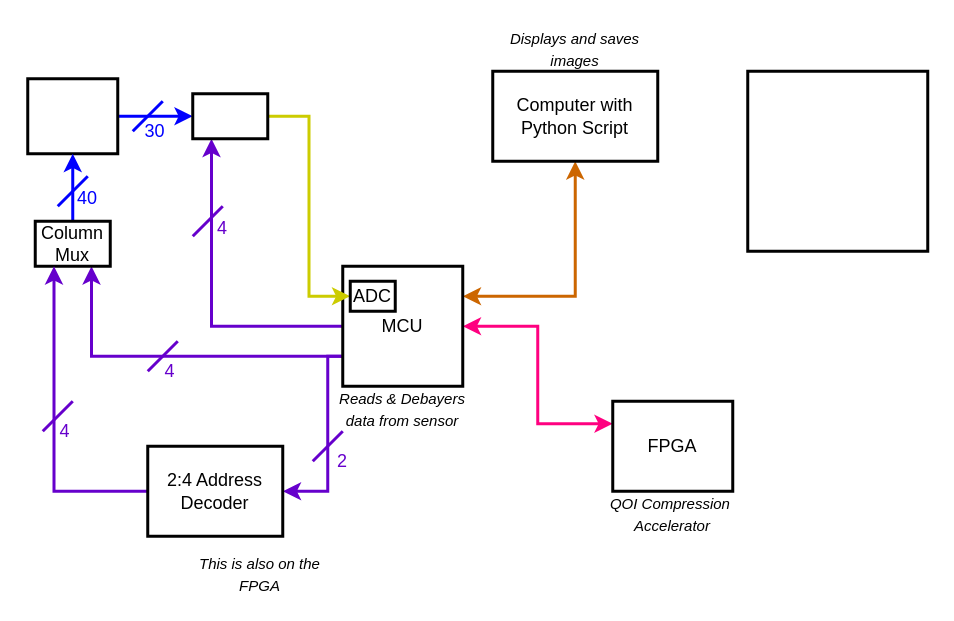
The diagram is 954 pixels wide and 621 high, and some of its shapes have lost their labels. The centre of each missing label's shape, as x and y in pixels:
"Camera Sensor" goes at point 72,115.
"Legend Parallel Data Bus Address Selector SPI UART Analog Signal" goes at point 837,160.
"Row Mux" goes at point 229,116.
